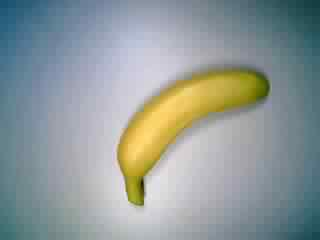banana: (114, 64, 271, 206)
